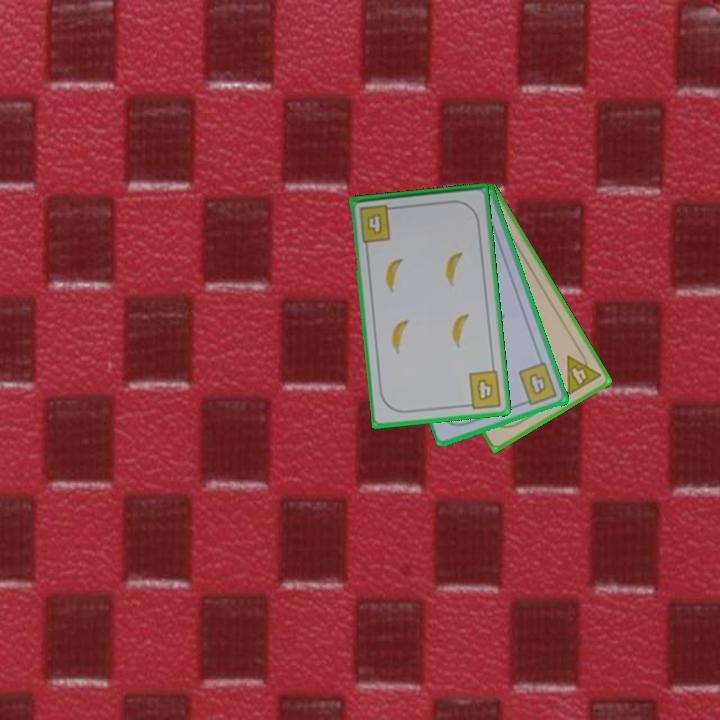4b: (515, 359, 561, 409), (461, 367, 505, 411), (356, 201, 399, 245)
4p: (563, 345, 604, 398)
